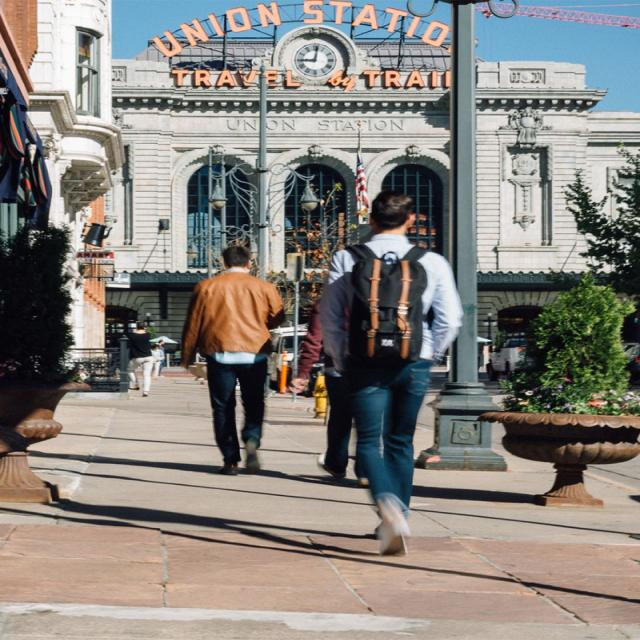body: (318, 190, 464, 556), (178, 243, 288, 476), (290, 294, 374, 488), (259, 467, 540, 506), (124, 320, 154, 398), (148, 342, 164, 380), (157, 339, 166, 377), (193, 348, 206, 366)
